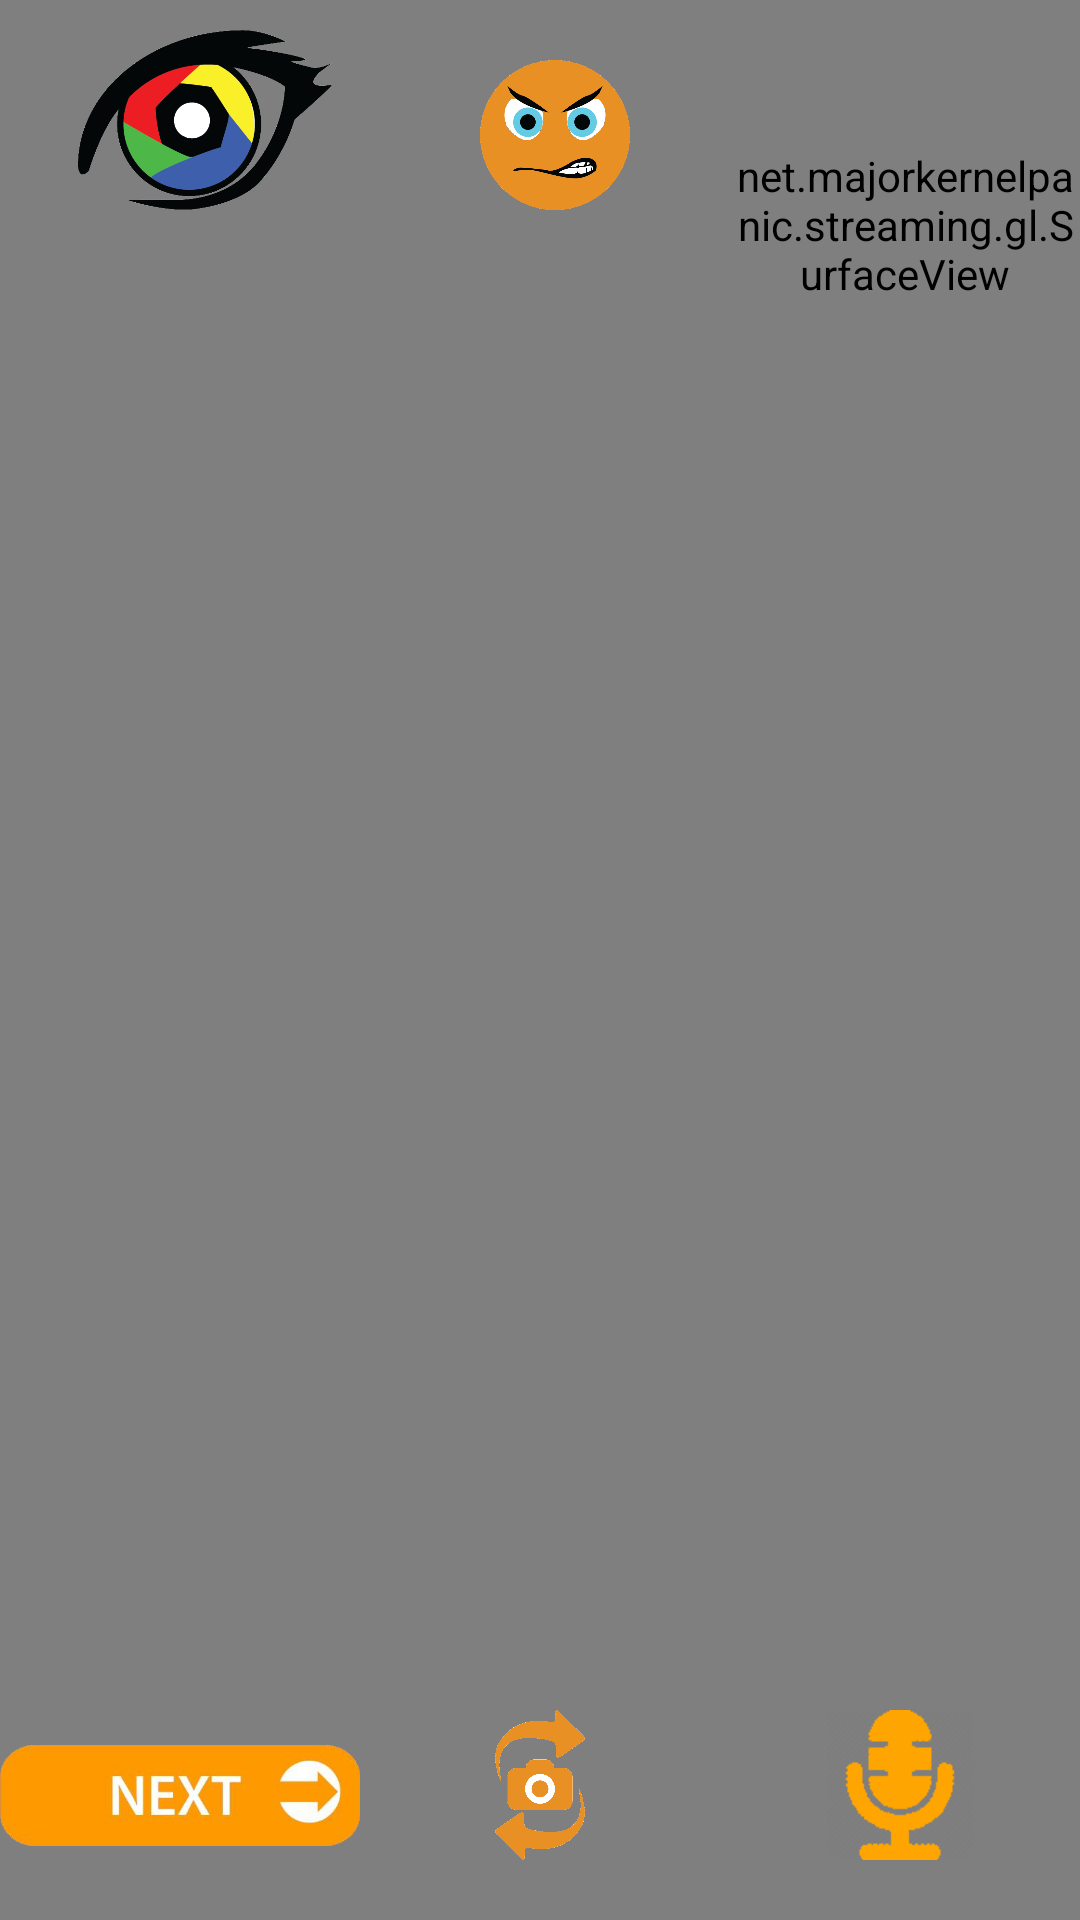

Named icons in this screenshot (1080×1920) and their centers, [x,y]:
annoy: [555,135]
camera change: [540,1785]
unmute: [900,1785]
